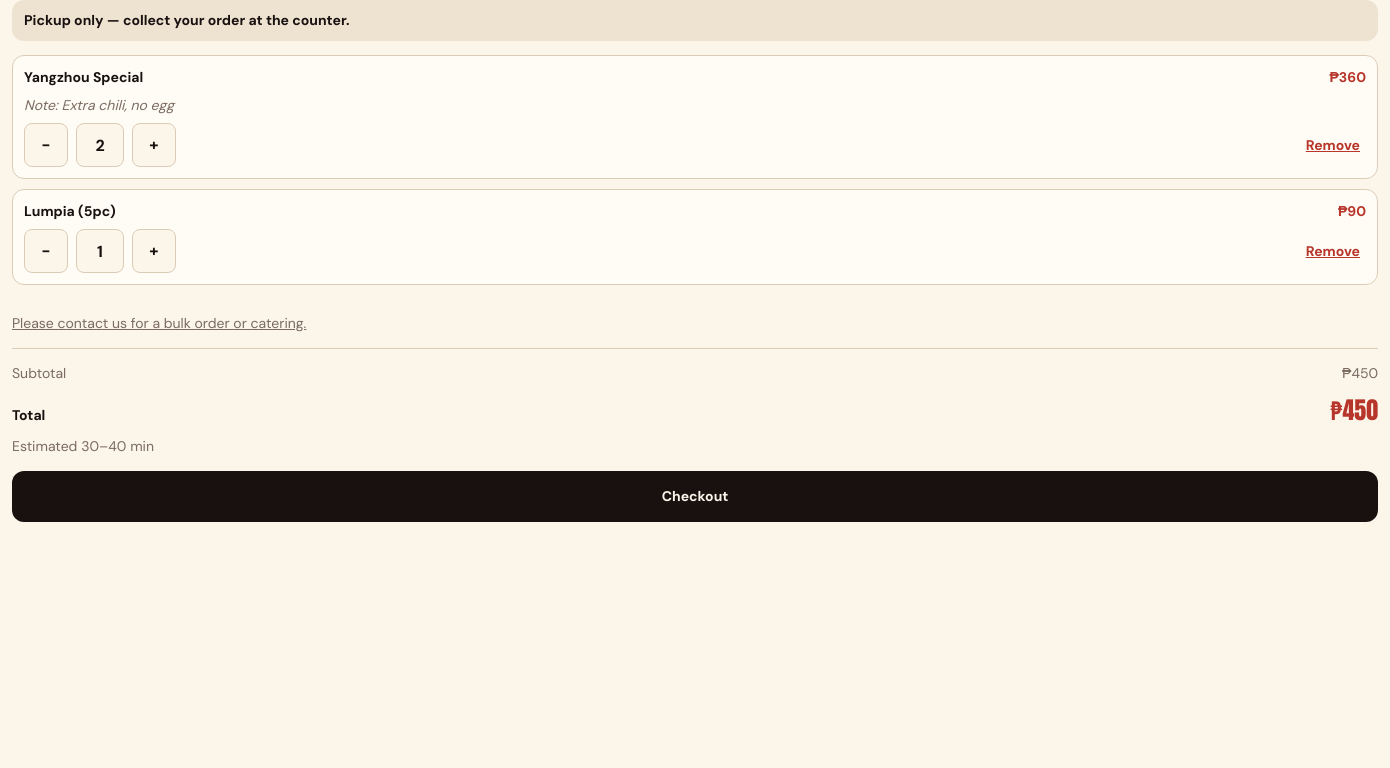
Test: CartLineRow writes › shows the backend's own message and does not re-read when a write fails
Click the button named "Increase quantity".
click(154, 145)  # box x1=132 y1=123 x2=176 y2=167
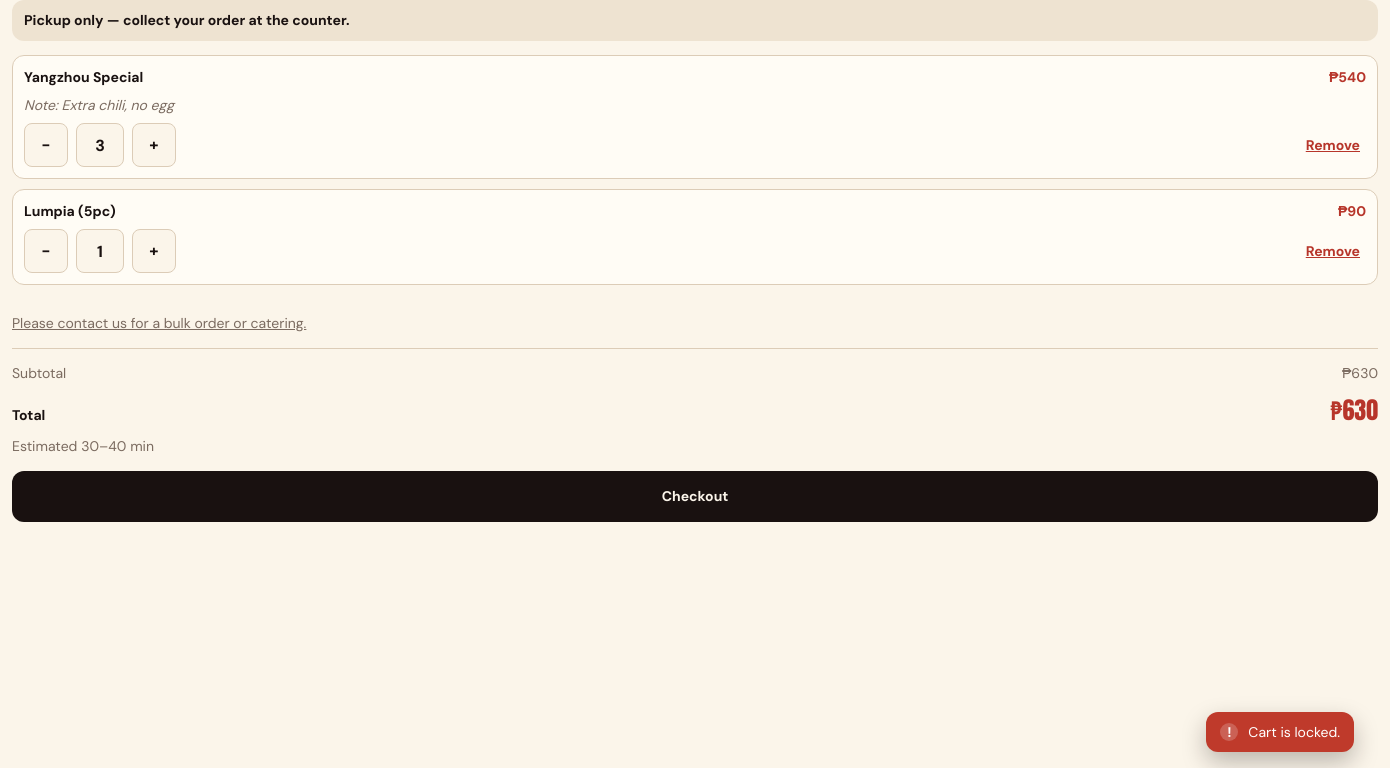
Result: the text "Cart is locked." is shown at x1=1248 y1=723 x2=1340 y2=741
